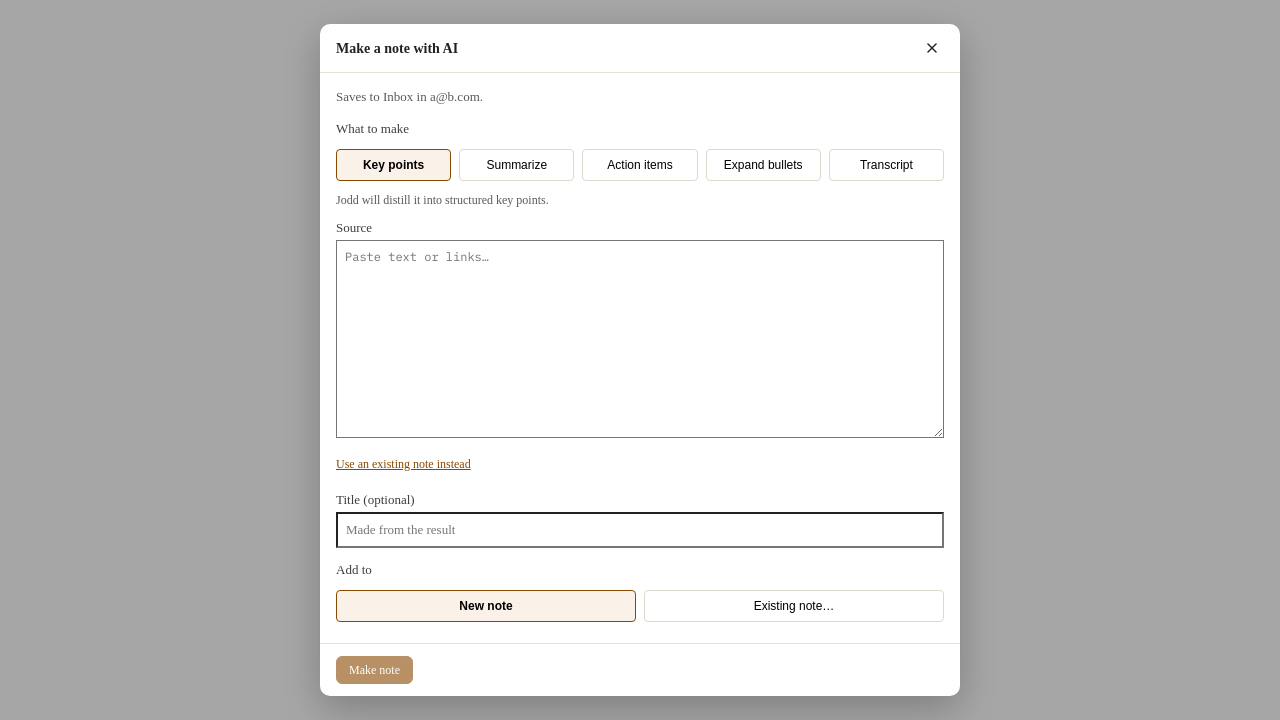
Test: the make-a-note dialog layout › the source is the textarea or an existing note, one at a time
Expected: the text box labelled "Source" is shown, [336, 240, 944, 438]
Click the button "Use an existing note instead".
click(403, 464)  # box [336, 457, 471, 472]
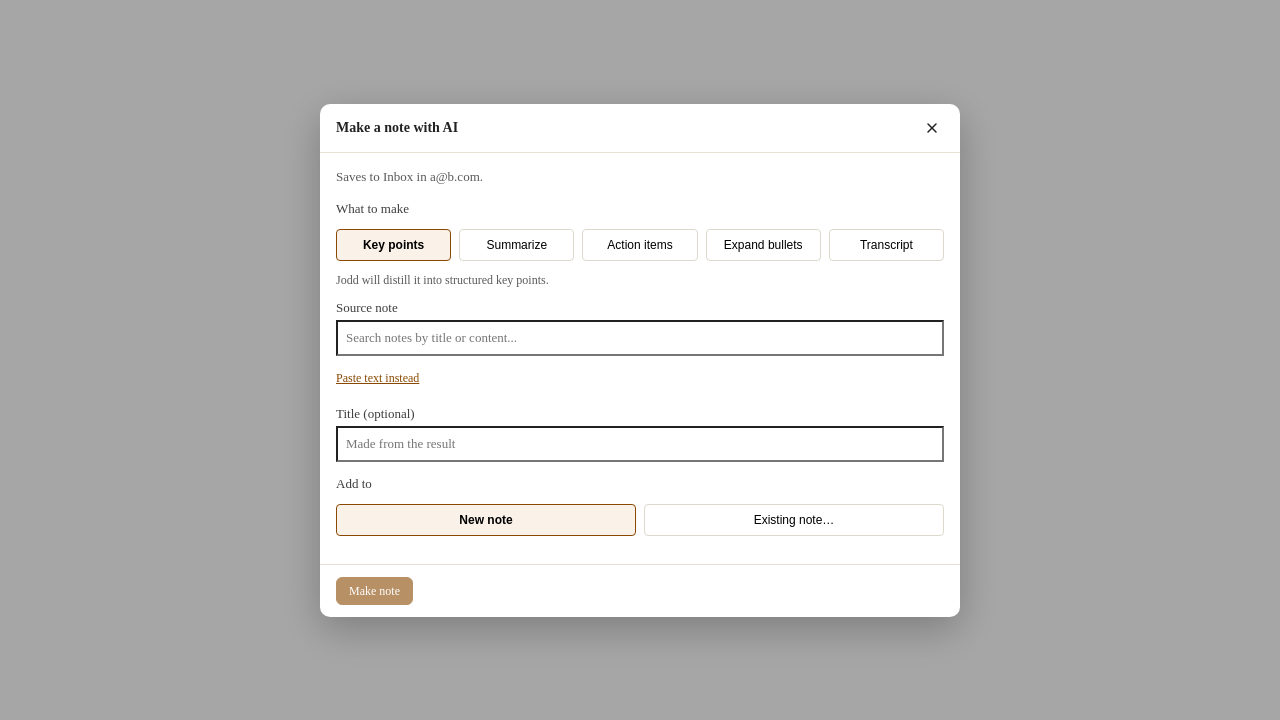
Expected: the text box is gone
Expected: the text "Source note" is shown, [336, 300, 944, 356]
Click the button "Paste text instead".
click(378, 378)  # box [336, 370, 419, 386]
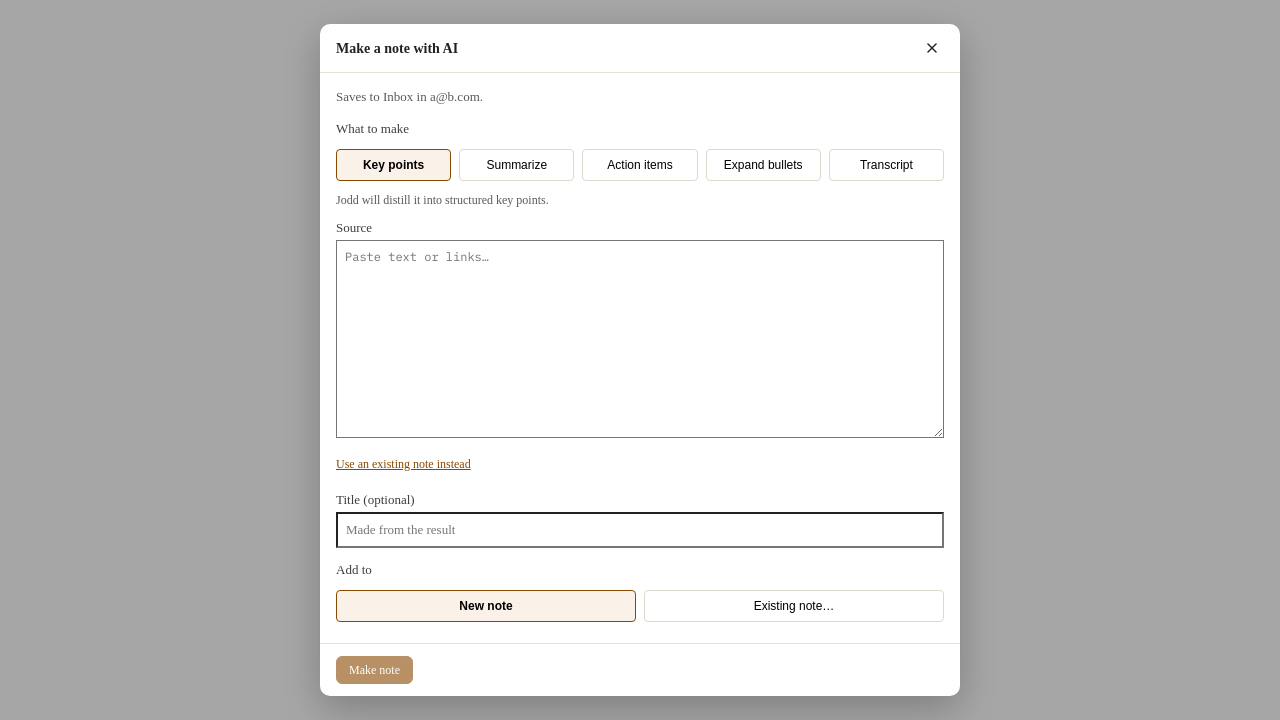
Expected: the text box labelled "Source" is shown, [336, 240, 944, 438]
